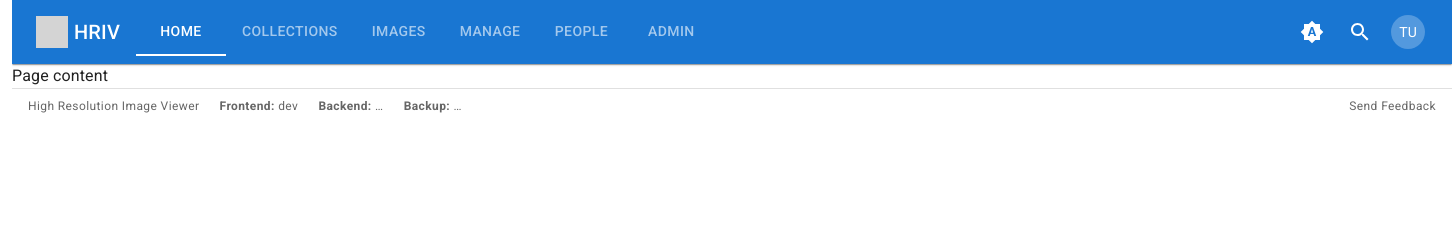
it: AppShell › manage menu › opens manage menu when Manage tab is clicked
Click the tab "Manage" at [490, 32], box [444,8,536,56]
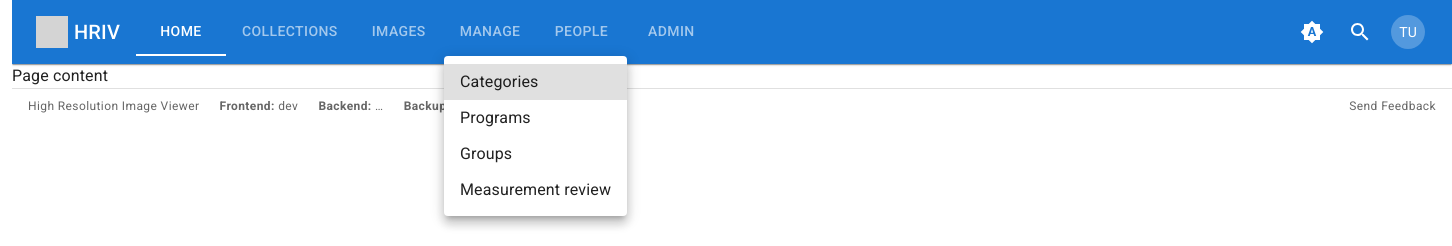
Expected: the menu item "Categories" is shown, [444,64,627,100]
Expected: the menu item "Programs" is shown, [460,108,531,127]
